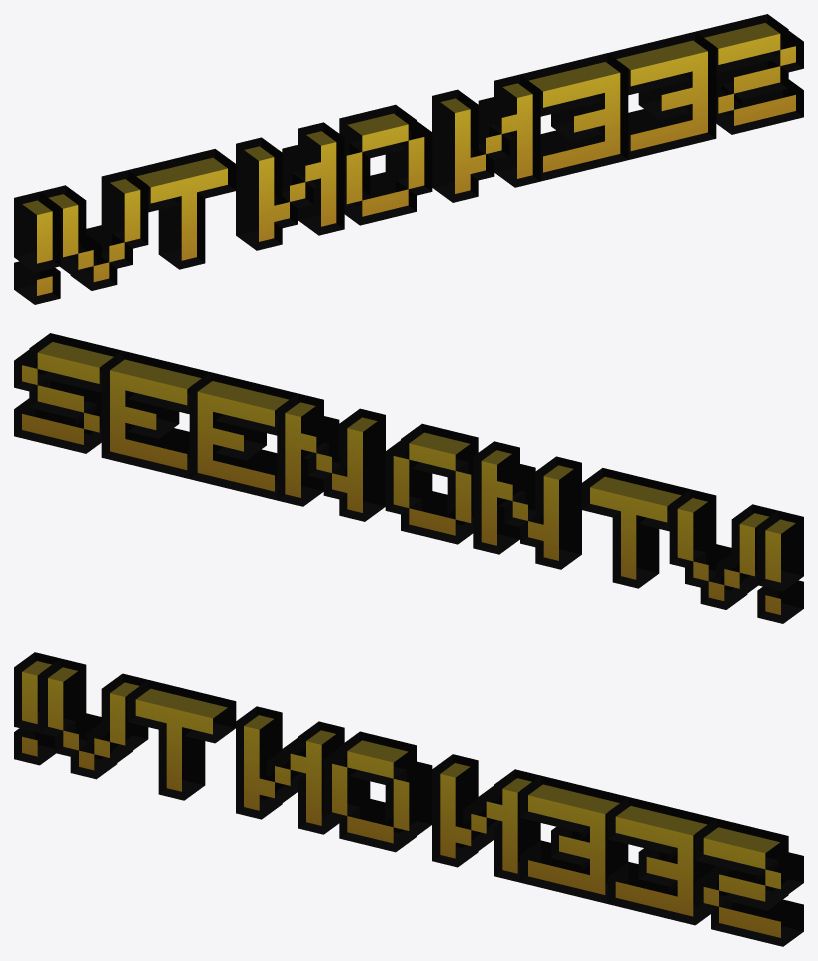
Rendered from seen_on_tv.gltf.
3 views of the same model, one above another, from view 1: azimuth 30°, elevation 25°; view 2: azimuth 150°, elevation 25°; view 3: azimuth 330°, elevation 25° (orthographic).
Visible parts, largest first — view 1: cube (×37); view 2: cube (×38); view 3: cube (×38).
Part boxes in pixels (x1=…): cube (×37): x1=14, y1=14, x2=803, y2=304; cube (×38): x1=14, y1=333, x2=803, y2=623; cube (×38): x1=14, y1=652, x2=803, y2=946.
Bounding box in the file's own units: 6.52 × 0.7437 × 0.3063.
1 material, 1 textured.
